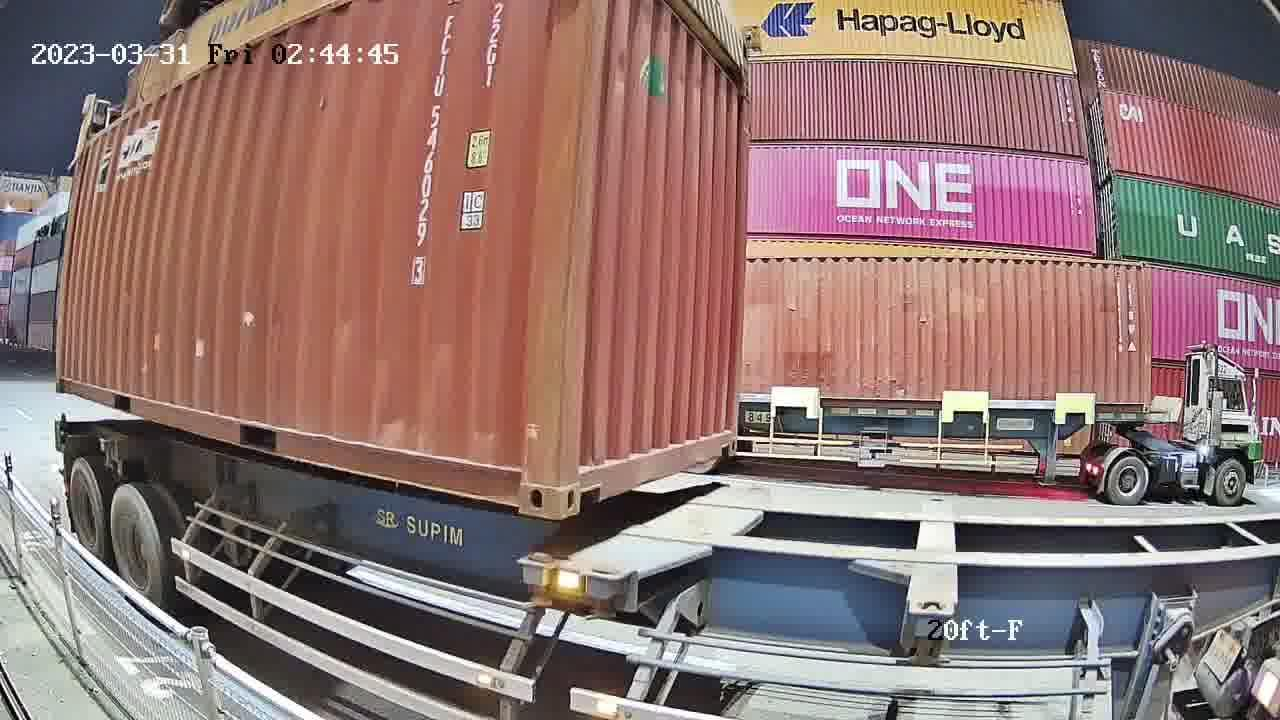Chassis: (587, 486, 768, 579)
Cone: (582, 567, 632, 624), (518, 550, 562, 610)
Hole_L: (557, 436, 609, 520)
Hole_R: (485, 440, 559, 520), (714, 415, 738, 458)
Tire: (111, 488, 164, 606), (69, 461, 106, 562)
